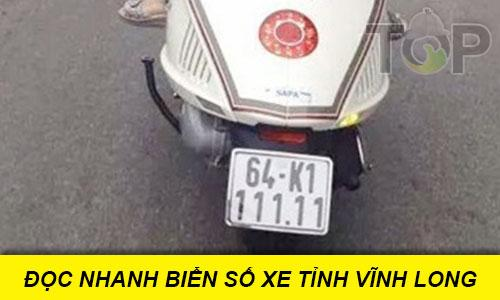numplate: (224, 146, 332, 234)
